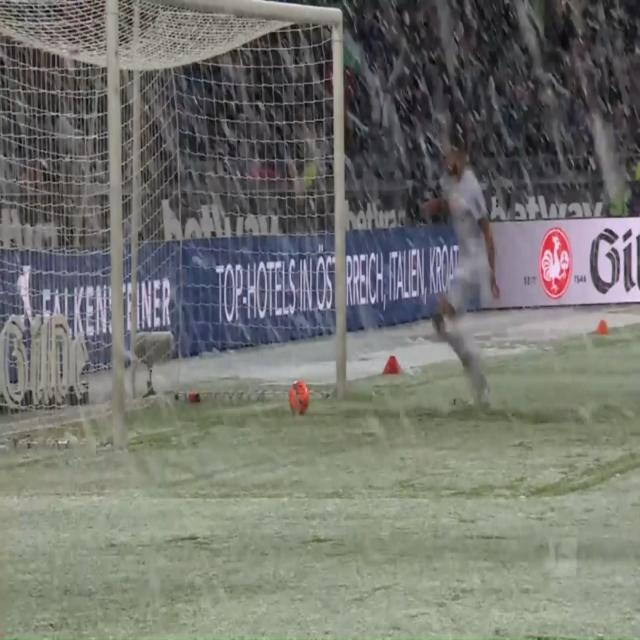ball: (285, 366, 313, 422)
player: (415, 110, 503, 421)
